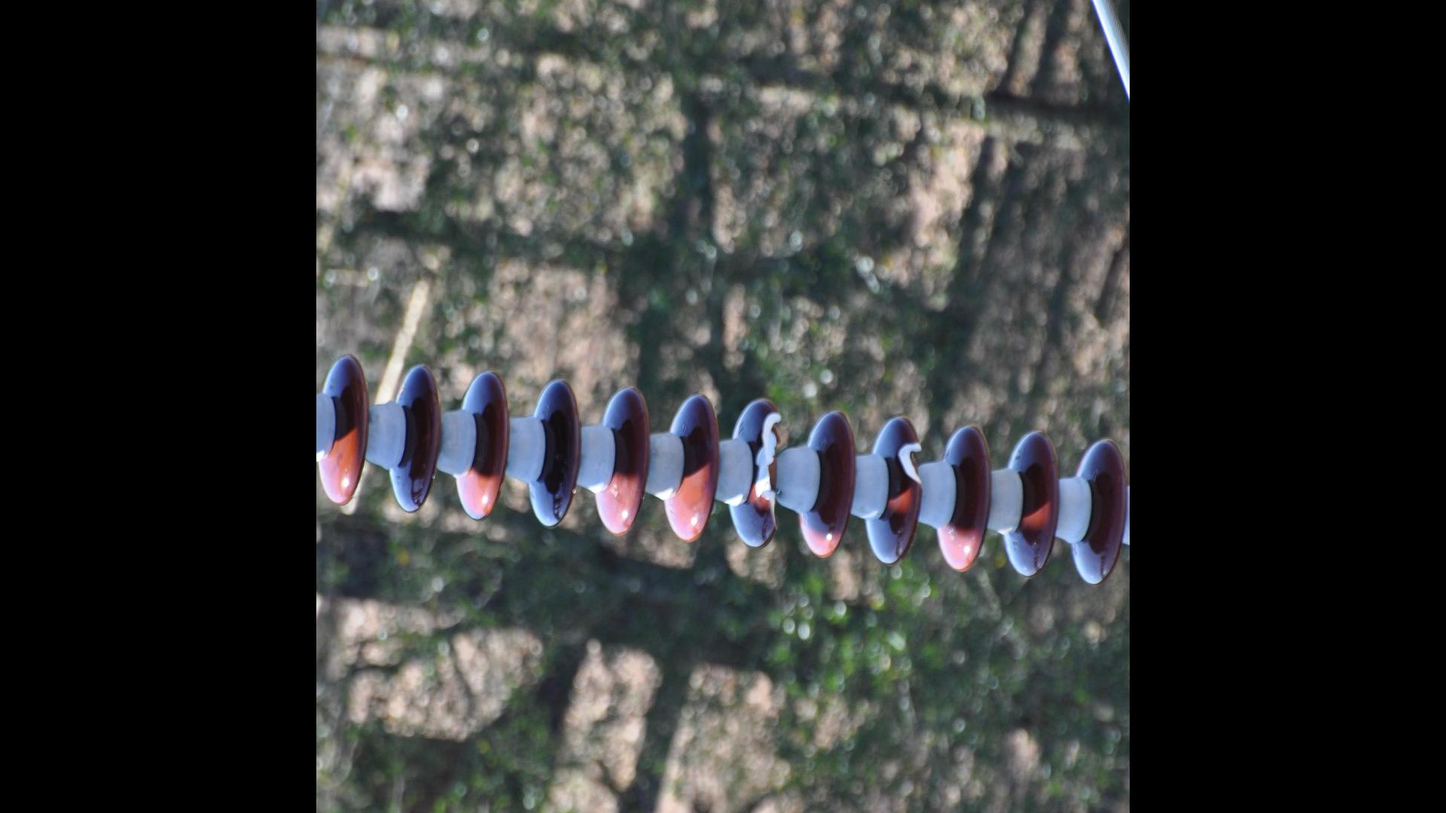insulator: (319, 349, 1129, 592)
insulator_breakage: (752, 406, 787, 532), (893, 435, 928, 489)
